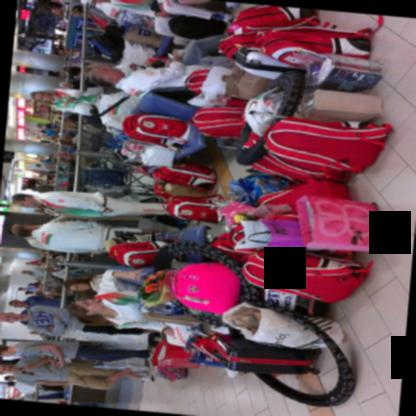backpack: (161, 27, 395, 307), (263, 115, 395, 175), (255, 26, 370, 68), (254, 179, 350, 221), (229, 3, 323, 37), (121, 113, 194, 149), (259, 287, 328, 315), (152, 162, 218, 190), (162, 193, 223, 223), (189, 106, 246, 138), (109, 241, 164, 268), (168, 15, 226, 39), (88, 32, 125, 61), (228, 221, 248, 245)
handbag: (166, 262, 244, 314)
suitcase: (214, 337, 318, 374), (219, 36, 306, 80)
